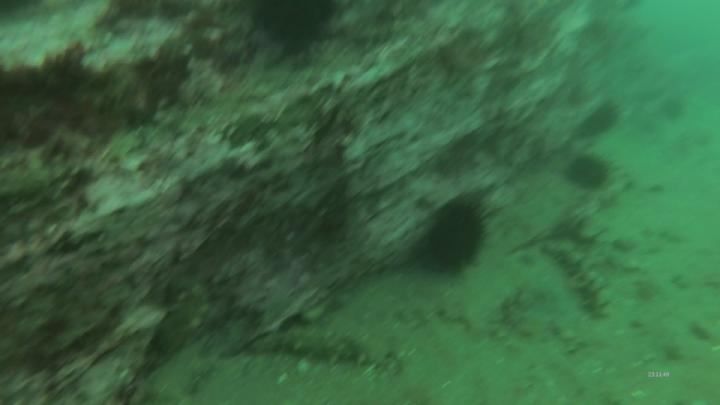echinus: (413, 188, 502, 284), (222, 2, 349, 64), (566, 146, 623, 193)
holothurian: (252, 320, 378, 373), (542, 238, 619, 324)
